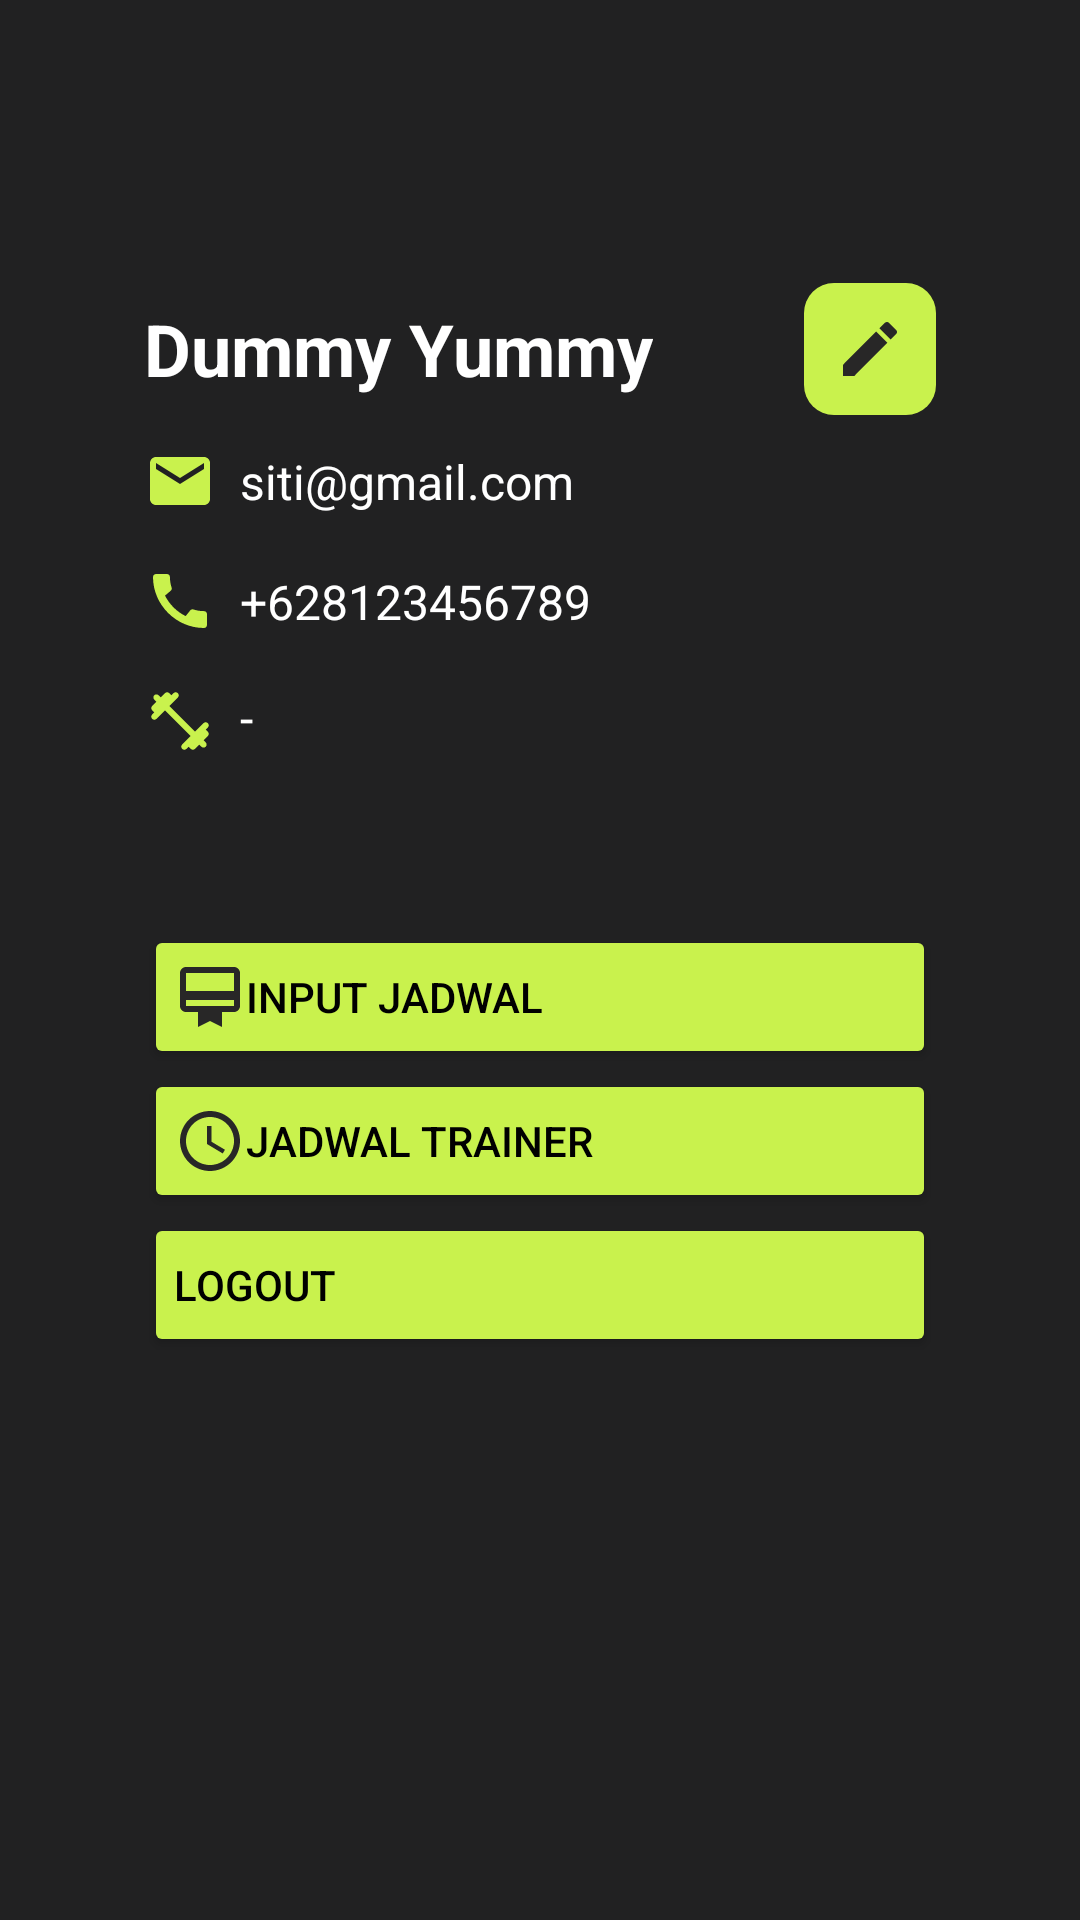

Icons on this 1080×1920 Android screen, each with the point to tap as [x,y]:
call: [180,601]
edit: [870,349]
email: [180,481]
fitness center: [180,721]
